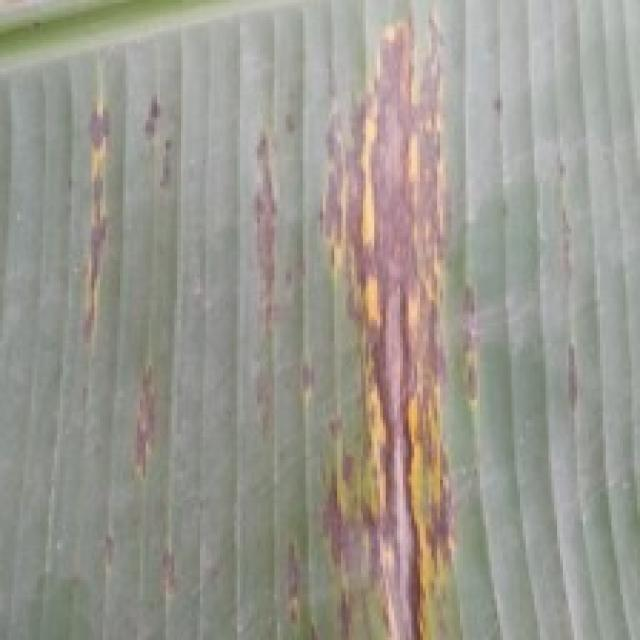Early_leaf_spot: (282, 0, 493, 635), (192, 105, 288, 419), (49, 69, 126, 367), (106, 352, 176, 500), (128, 64, 188, 232), (274, 518, 332, 634), (558, 304, 598, 432), (139, 538, 206, 605), (66, 528, 122, 598)
